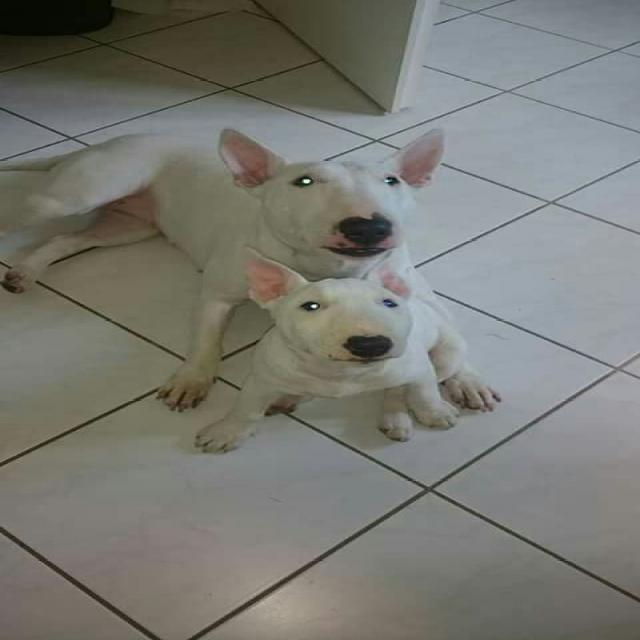Dogs: (0, 119, 503, 414), (184, 256, 544, 454)
